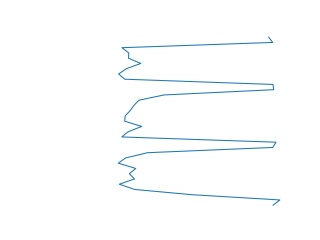majorRiverChannelBar: (115, 37, 282, 206)
